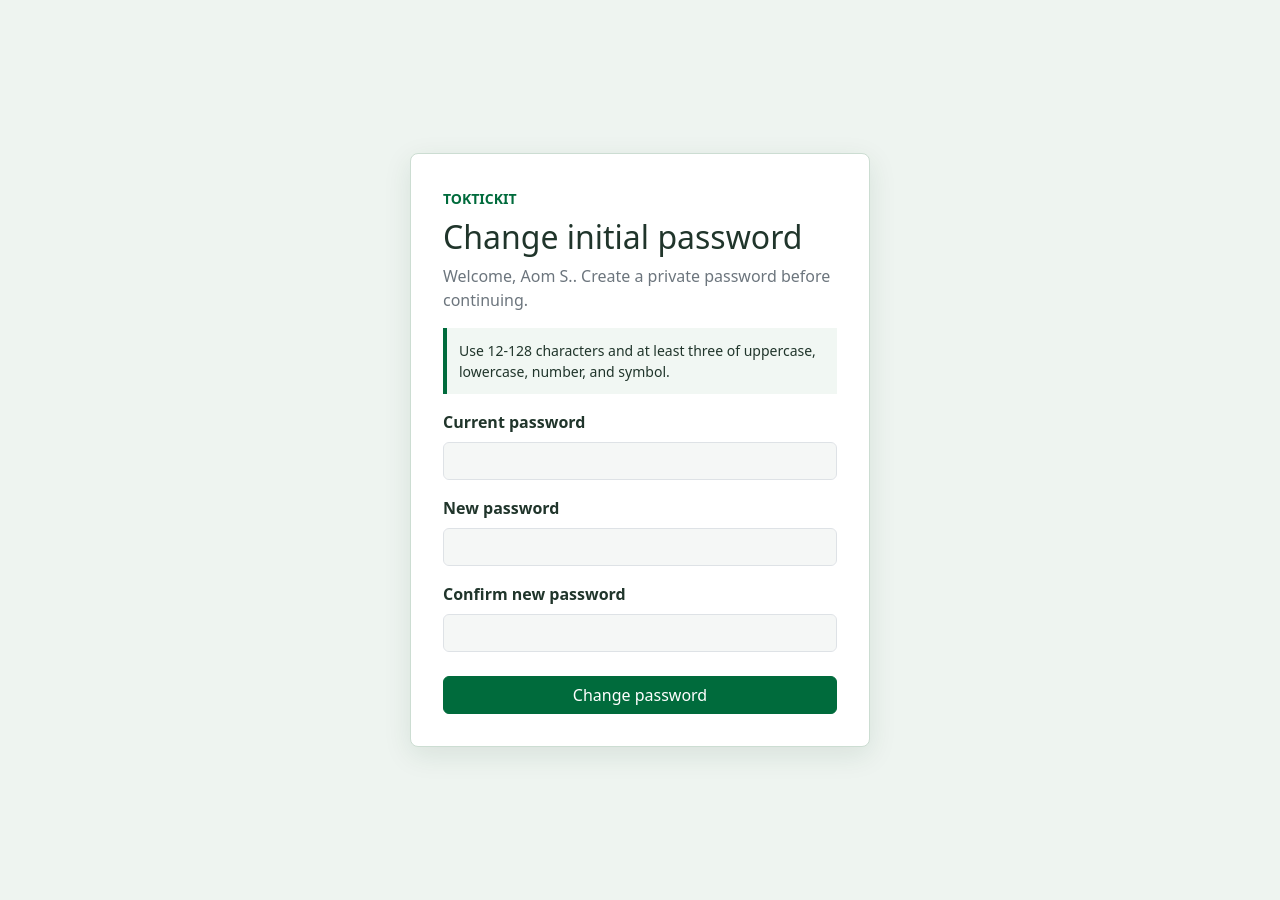
Test: Lab 3 mandatory password change UI › keeps protected content hidden until matching valid values succeed
expect the heading "Change initial password" is shown: met, box x1=443 y1=218 x2=837 y2=256
expect the text "Requester workspace" is not shown: met
Type "Lab3Initial!2026" into the password field labelled "Current password" at (640,461), box x1=443 y1=442 x2=837 y2=480
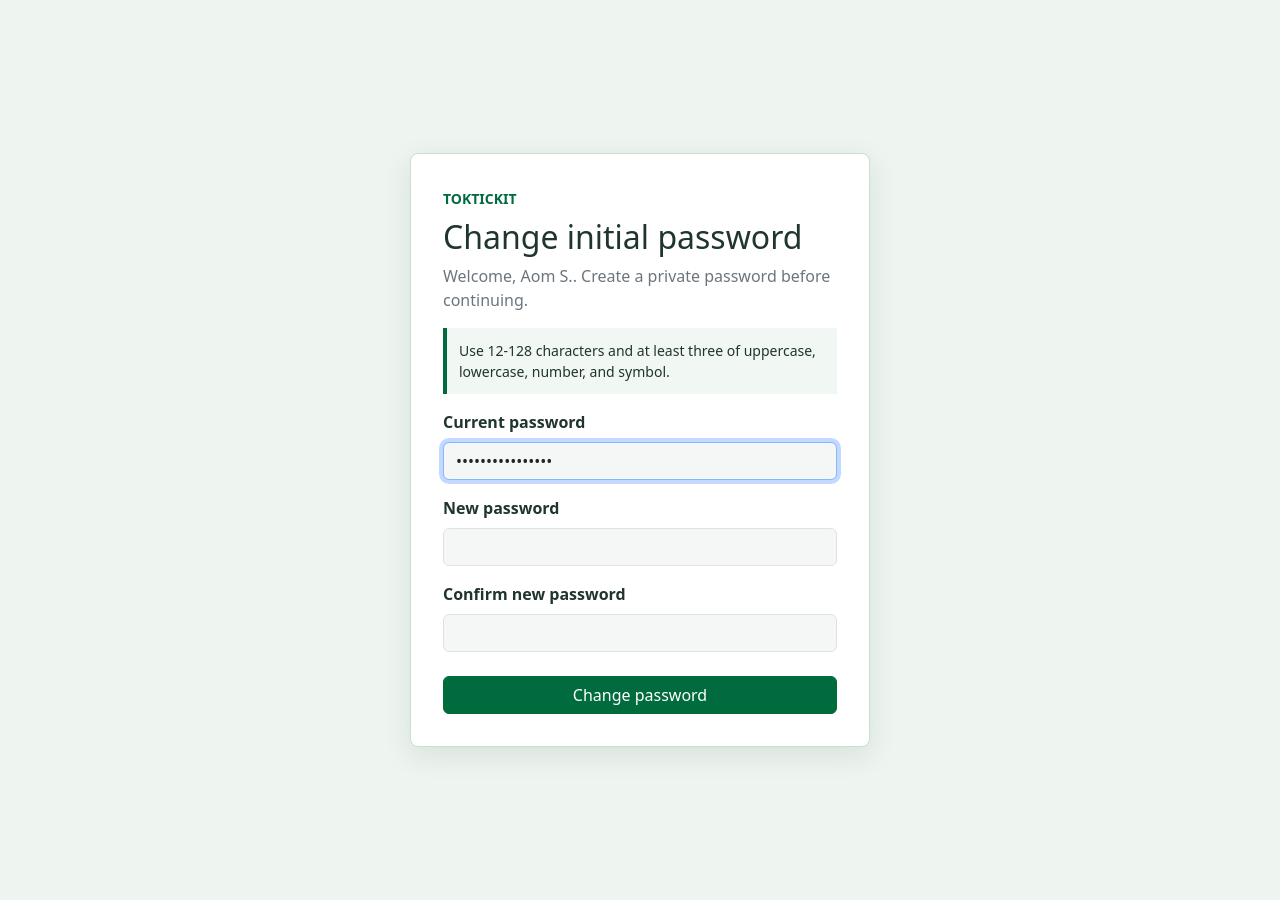
Type "PrivatePass!2026" into the password field labelled "New password" at (640,547), box x1=443 y1=528 x2=837 y2=566
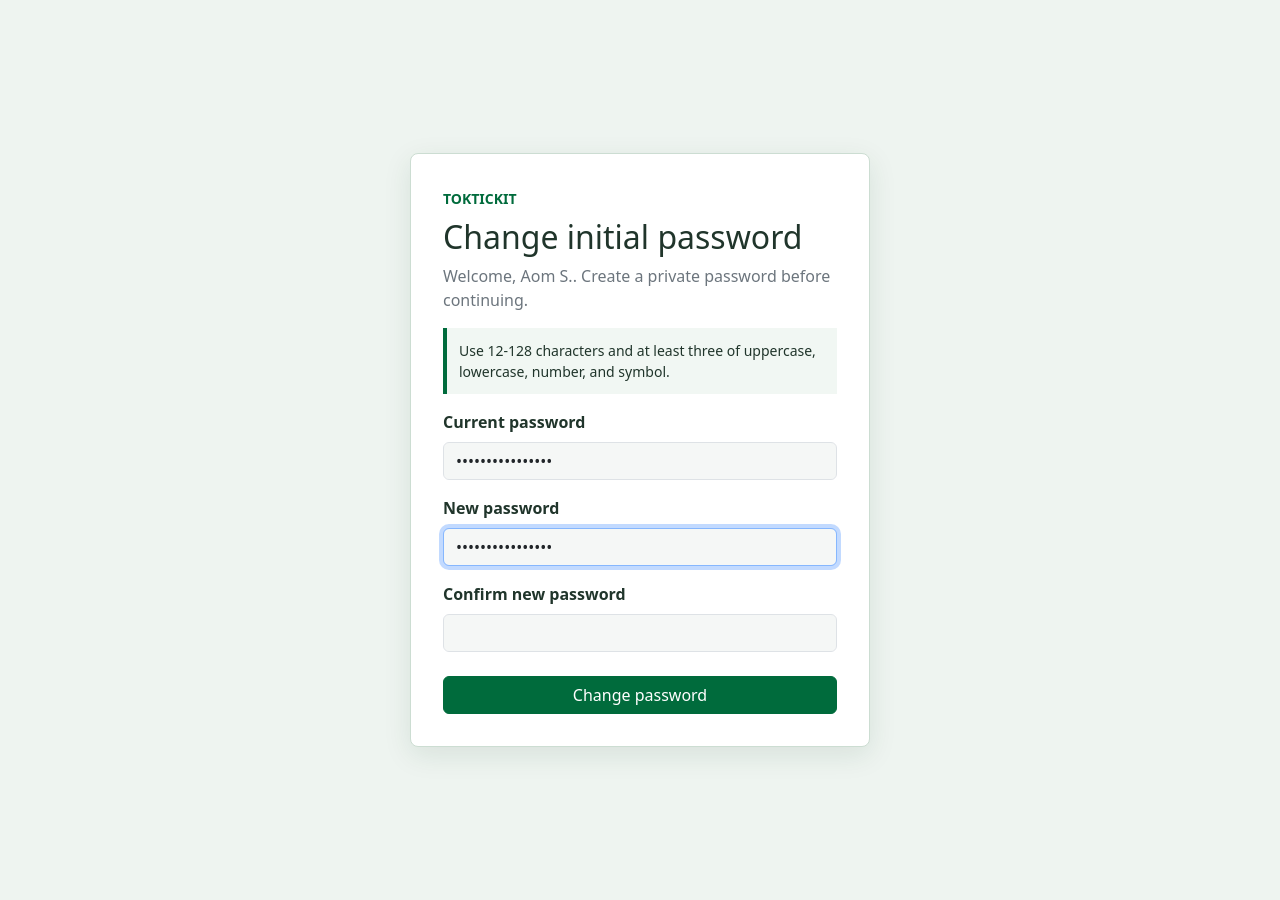
Type "DifferentPass!2026" into the password field labelled "Confirm new password" at (640,633), box x1=443 y1=614 x2=837 y2=652
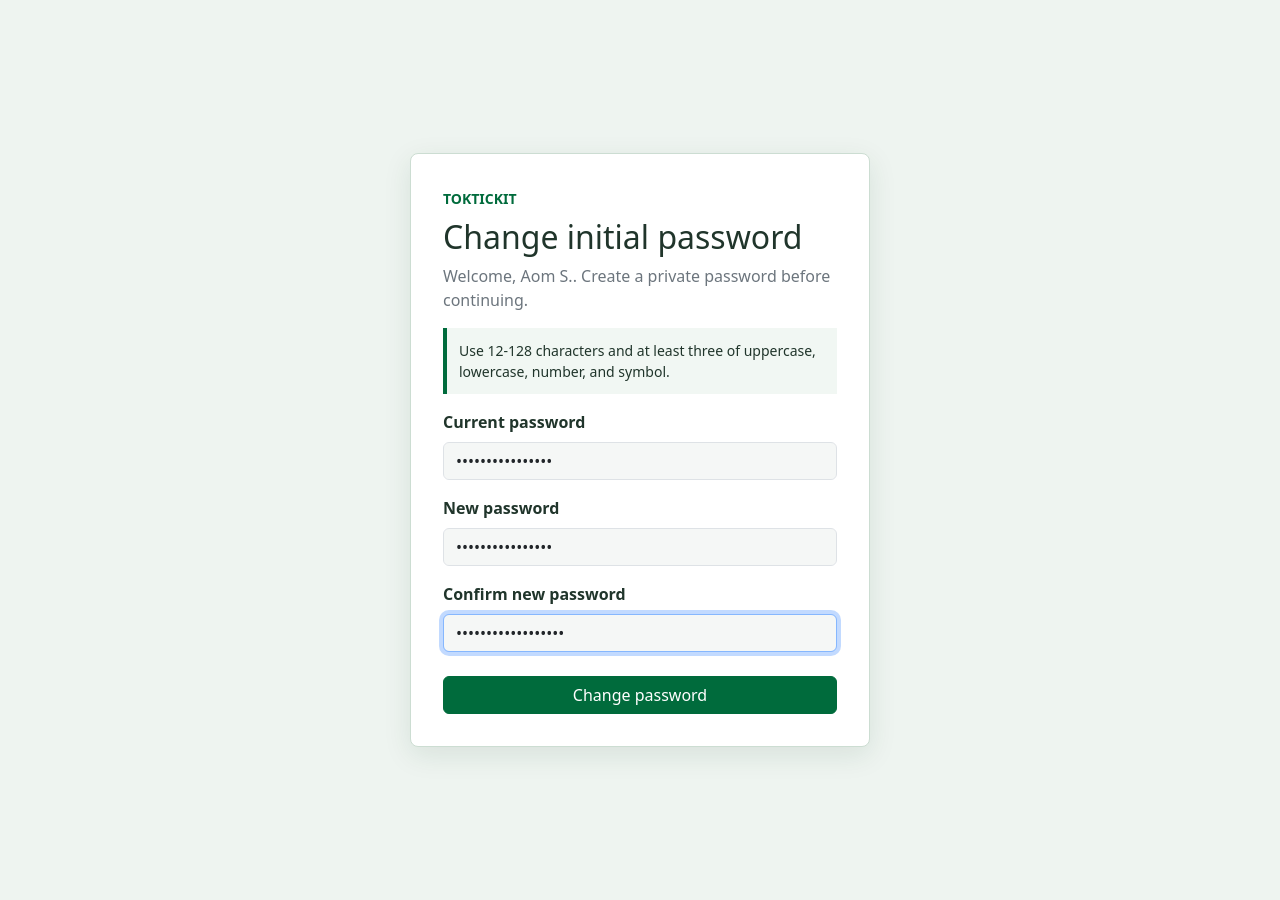
Click the button "Change password" at (640,695), box x1=443 y1=676 x2=837 y2=714
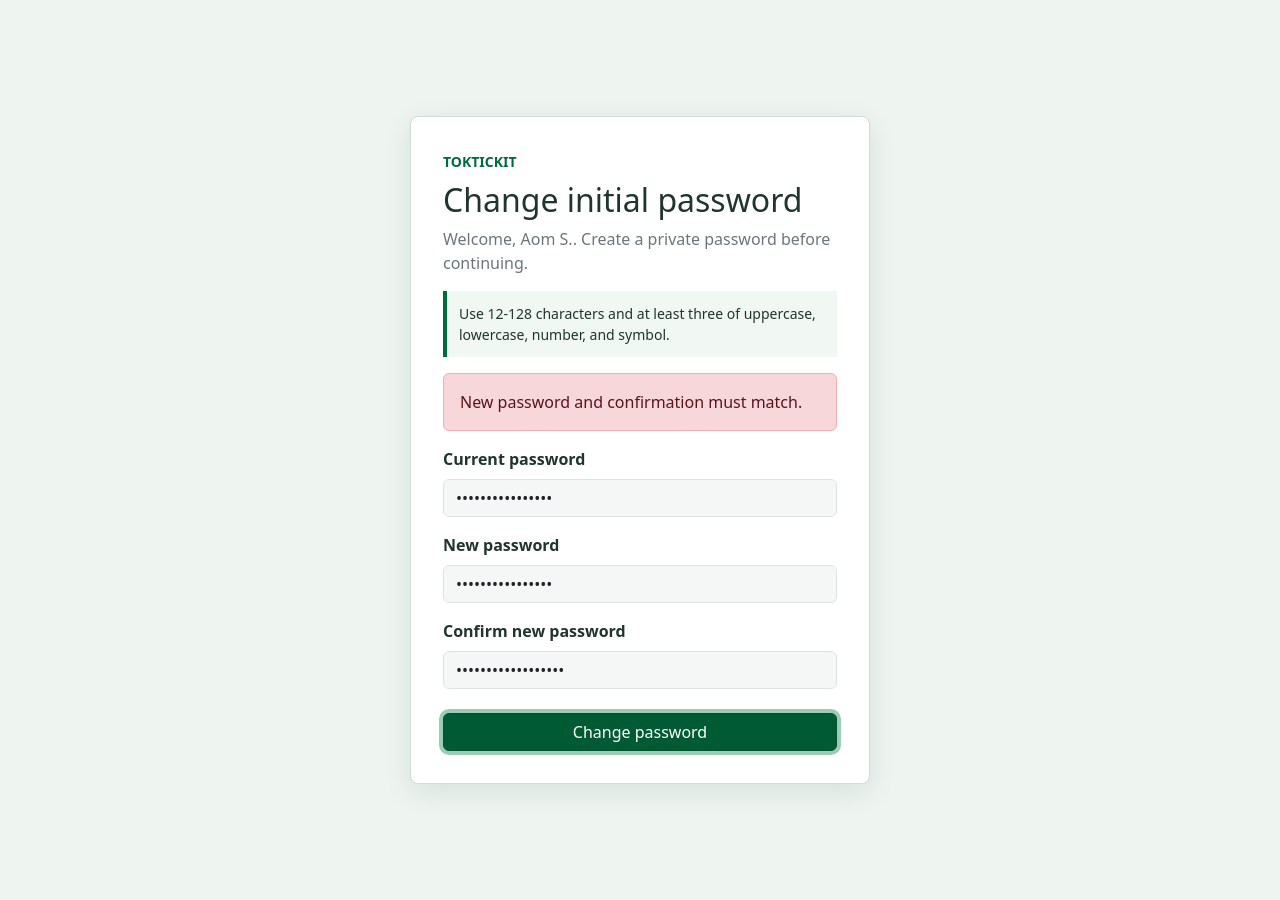
expect the message shows "must match": met, box x1=460 y1=391 x2=802 y2=413
Type "PrivatePass!2026" into the password field labelled "Confirm new password" at (640,670), box x1=443 y1=651 x2=837 y2=689
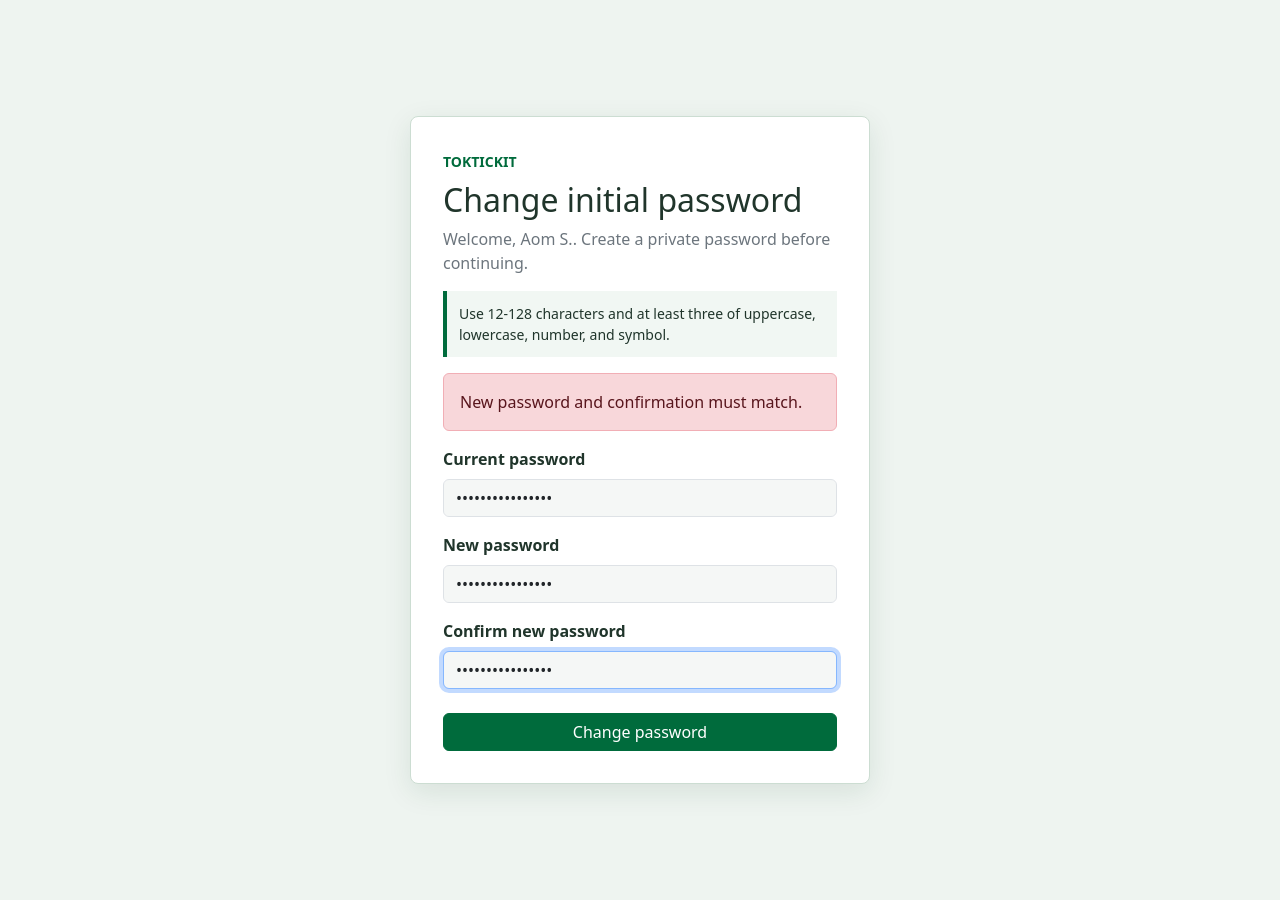
Click the button "Change password" at (640,732), box x1=443 y1=713 x2=837 y2=751
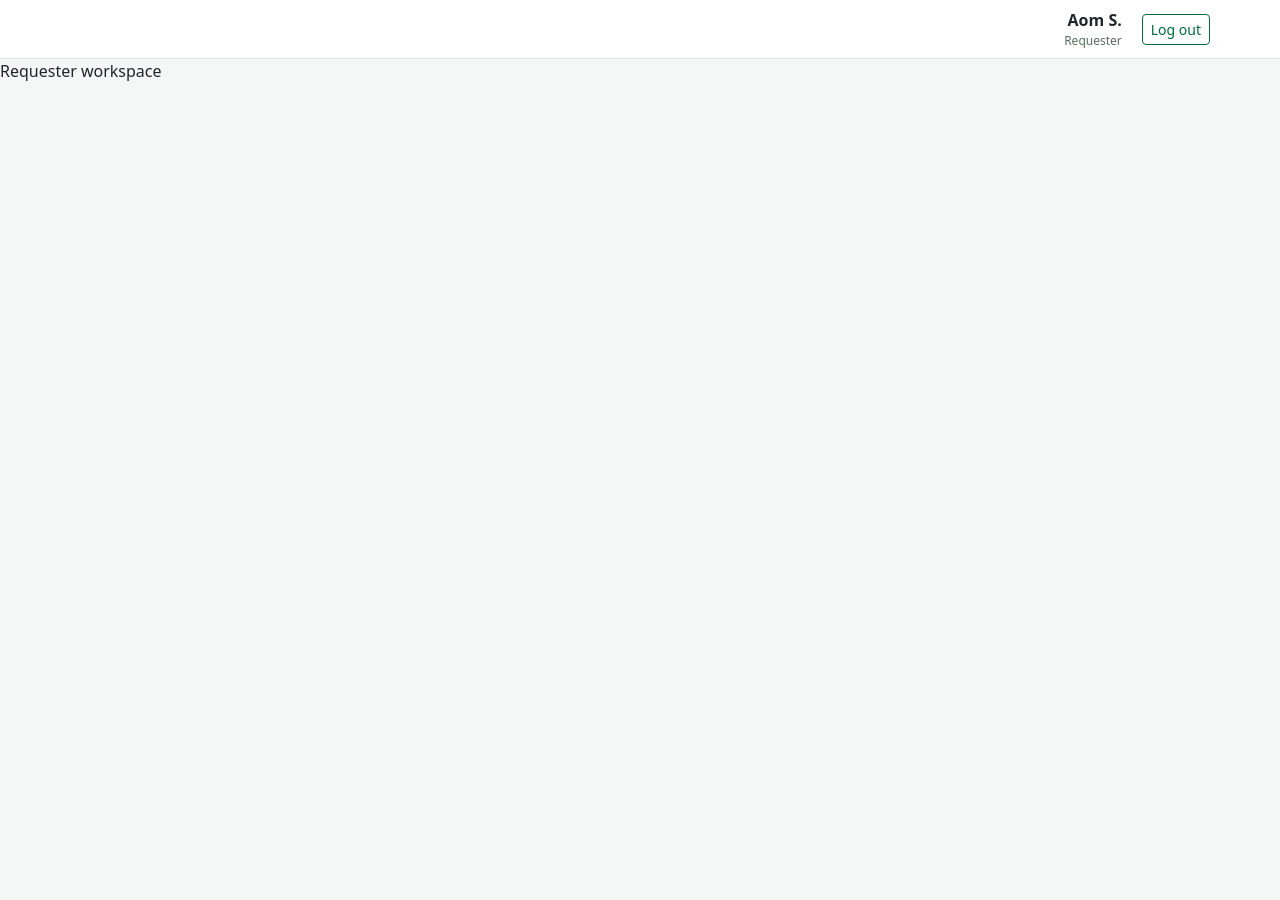
expect the text "Requester workspace" is shown: met, box x1=0 y1=60 x2=162 y2=82
